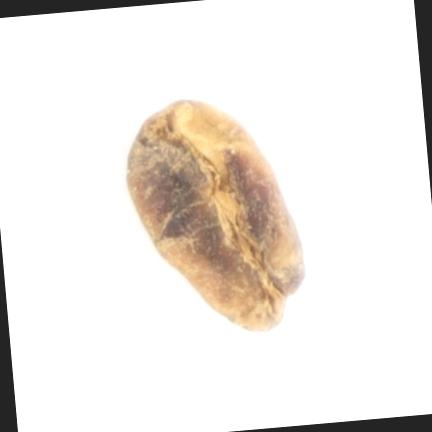partial-black: (127, 100, 304, 330)
